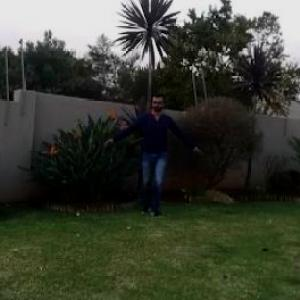land: (99, 85, 208, 224)
